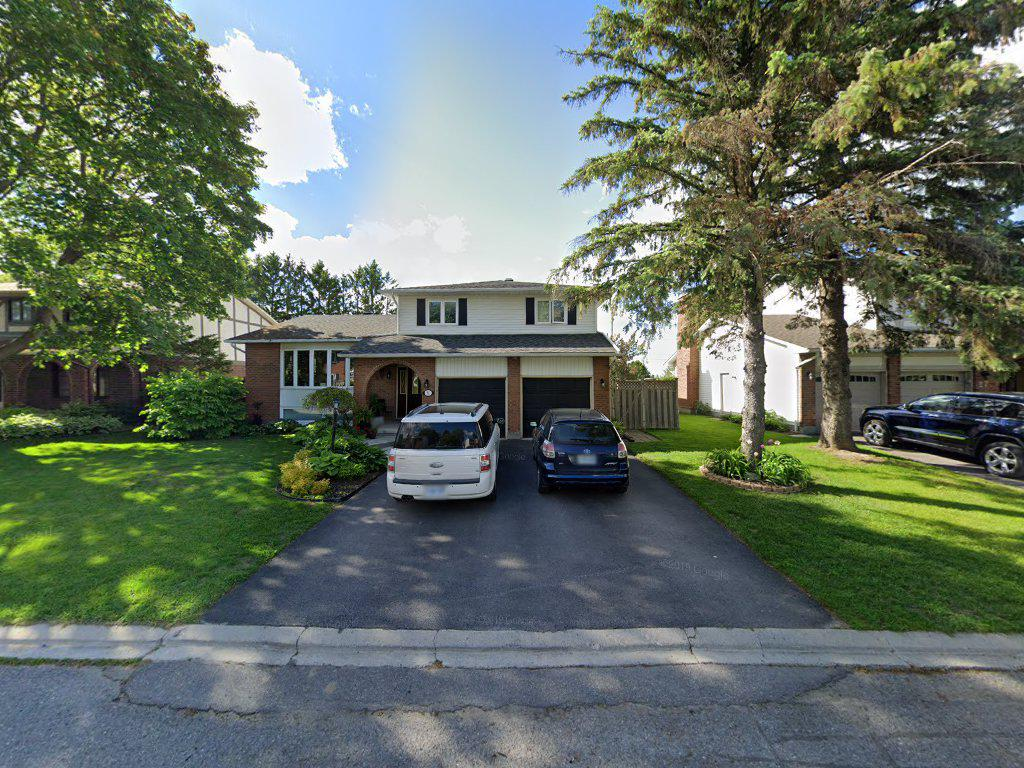trunk: (812, 255, 857, 461), (733, 239, 769, 483)
